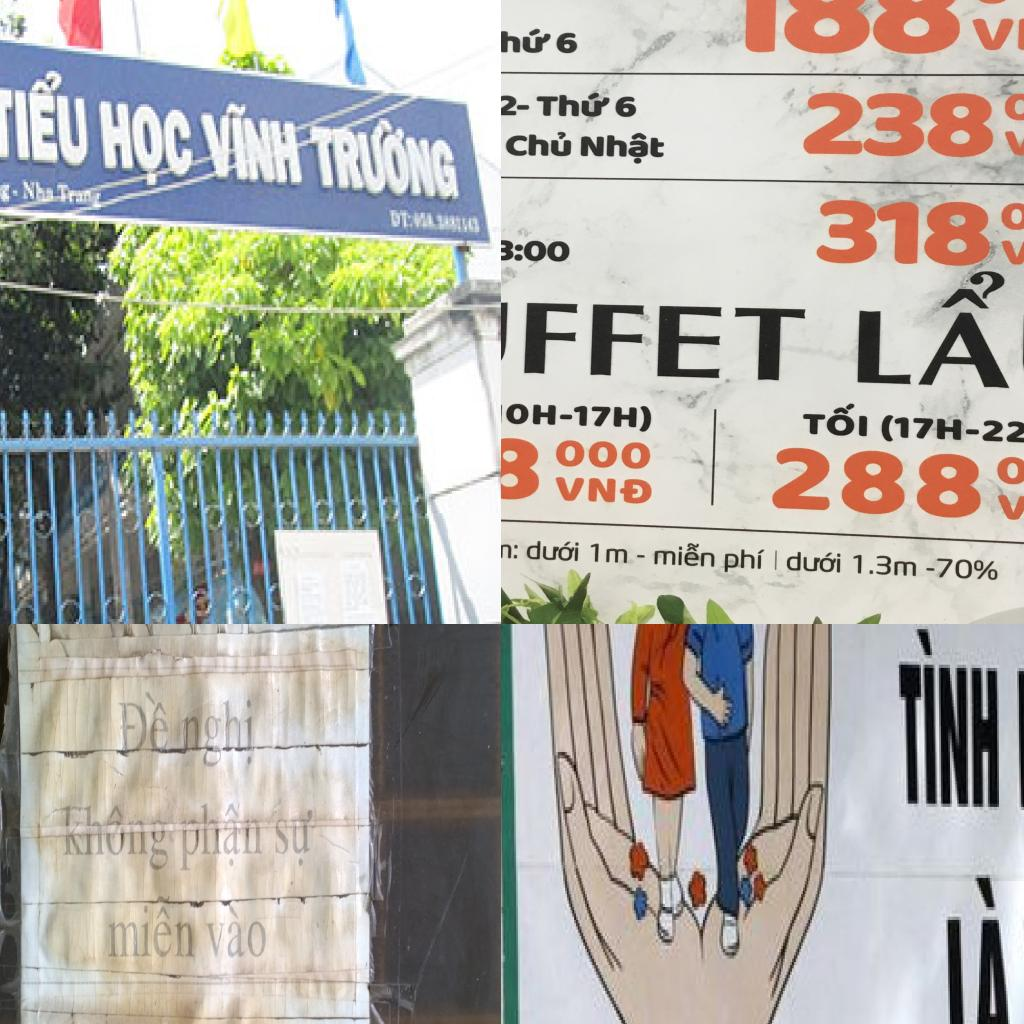text: (501, 296, 809, 383), (854, 268, 1024, 395), (897, 626, 1003, 813), (769, 444, 984, 520), (308, 113, 469, 210), (713, 0, 964, 57), (801, 90, 995, 158), (814, 197, 992, 267), (191, 93, 310, 191), (0, 57, 95, 174), (944, 871, 1015, 1024), (99, 93, 201, 196), (62, 800, 170, 874), (179, 800, 264, 874), (106, 894, 196, 960), (879, 413, 1024, 451), (501, 397, 654, 432), (181, 698, 254, 769), (204, 904, 266, 961), (118, 688, 171, 754), (554, 437, 652, 472), (552, 474, 653, 506), (579, 130, 667, 166), (501, 429, 542, 502), (800, 400, 870, 438), (274, 808, 314, 870), (534, 90, 613, 118), (503, 129, 573, 158), (971, 15, 1024, 52), (57, 176, 105, 216), (652, 541, 718, 570), (850, 552, 920, 579), (501, 238, 572, 263), (935, 556, 1000, 582), (784, 549, 842, 576), (501, 27, 553, 55), (525, 538, 581, 563), (722, 546, 768, 574), (22, 174, 57, 207), (589, 541, 631, 566), (994, 492, 1024, 526), (995, 455, 1024, 490), (385, 204, 417, 235), (997, 238, 1024, 269), (998, 201, 1024, 233), (501, 92, 531, 118), (1001, 128, 1024, 158), (1003, 91, 1024, 123), (554, 32, 581, 56), (613, 94, 638, 118), (501, 540, 519, 561), (13, 188, 22, 202)
